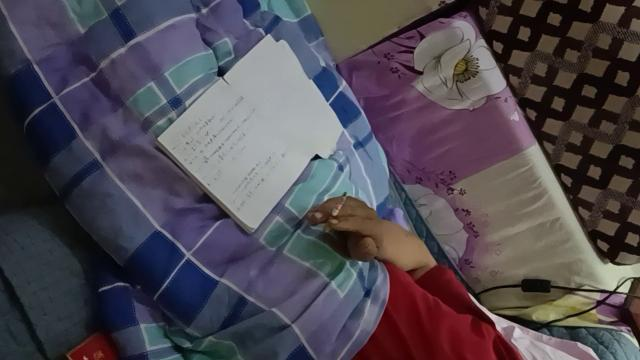Smoking: (323, 192, 347, 232)
